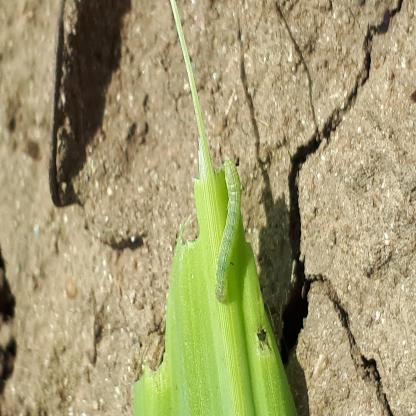armyworm: (63, 379, 148, 416)
